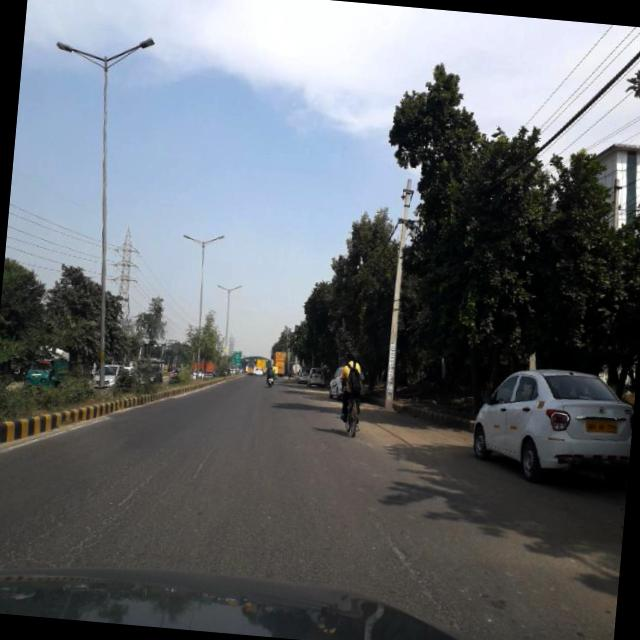crack: (5, 488, 127, 570)
pothole: (348, 502, 460, 614), (127, 410, 224, 498)
